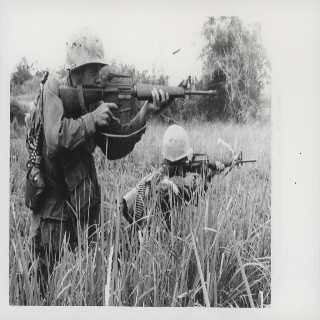rifle: (57, 73, 218, 120), (170, 149, 257, 182)
